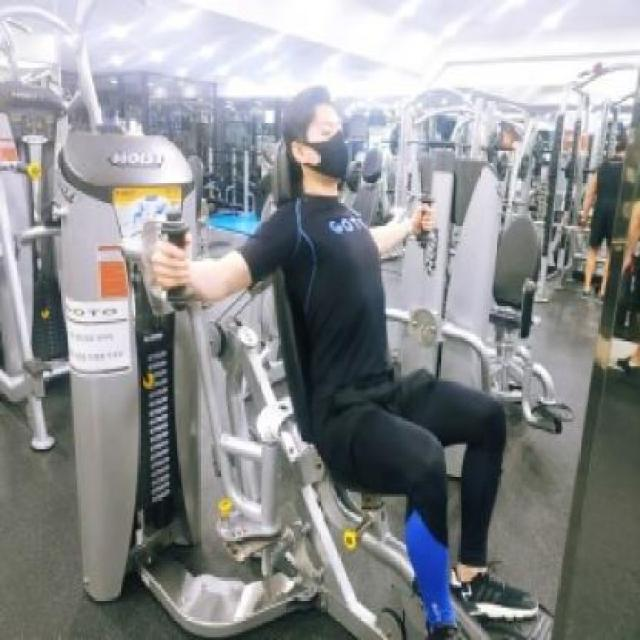chest fly machine: (44, 27, 537, 640)
